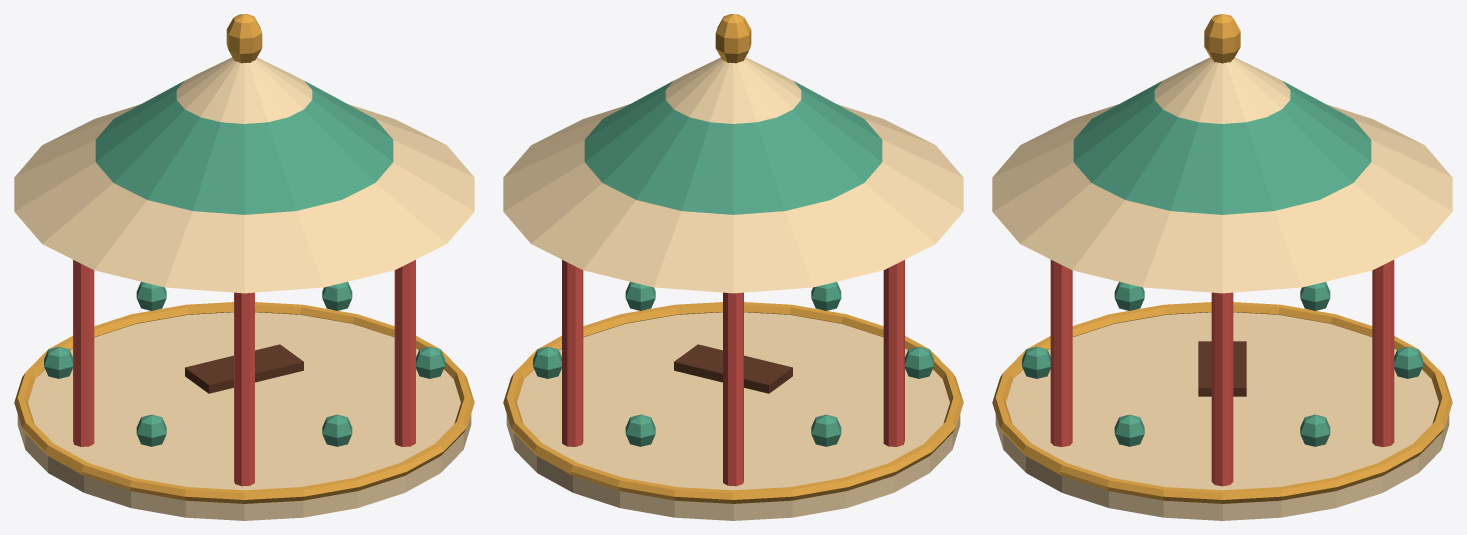
The model's file is ParkParkDecorGazebo.obj.
3 renders of one model, left to right at view 1: azimuth 30°, elevation 25°; view 2: azimuth 150°, elevation 25°; view 3: azimuth 270°, elevation 25°, orthographic.
Visible parts, largest first — view 1: ParkParkDecorGazebo; view 2: ParkParkDecorGazebo; view 3: ParkParkDecorGazebo.
Part boxes in pixels (x1,y1,x2,y2): ParkParkDecorGazebo: [14, 14, 474, 520]; ParkParkDecorGazebo: [503, 14, 963, 520]; ParkParkDecorGazebo: [992, 14, 1452, 520].
Bounding box in the file's own units: 6.8 × 6.6 × 6.7.
